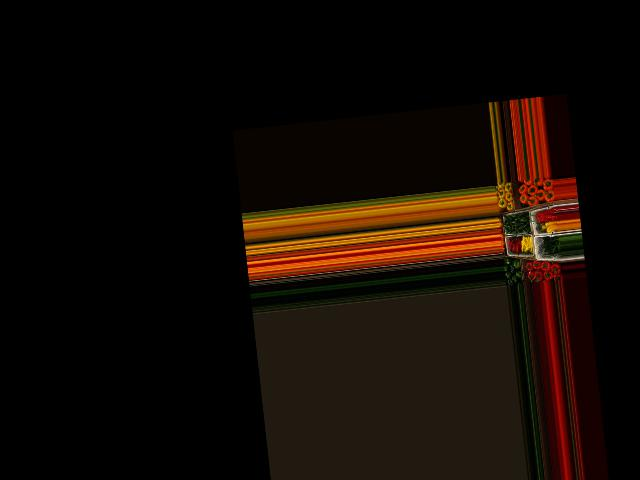bell_pepper: (512, 268, 524, 279)
